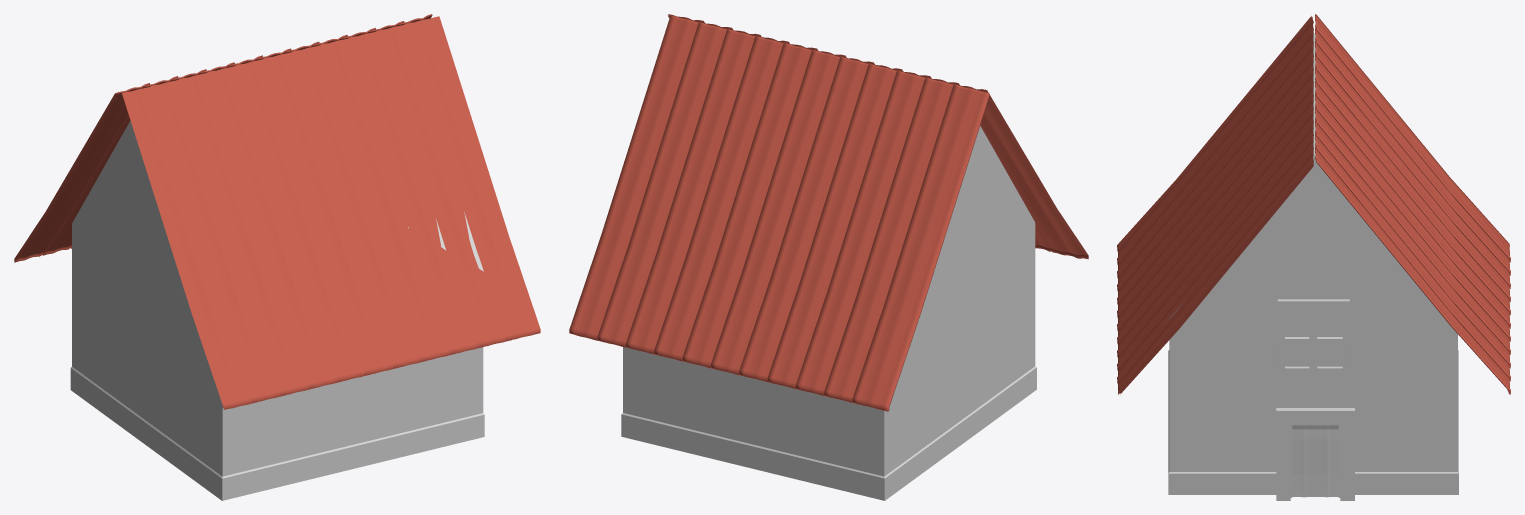
The model's file is TownHouse1.fbx.
3 renders of one model, left to right at view 1: azimuth 30°, elevation 25°; view 2: azimuth 150°, elevation 25°; view 3: azimuth 270°, elevation 25°, orthographic. The views are drawn at different scales.
Visible parts, largest first — view 1: Roof, Cube.003, Cube.001, Cube.002, Roof.001; view 2: Roof.001, Cube.003, Cube.001, Cube.002, Roof; view 3: Roof, Roof.001, Cube.001, Cube.002, Cube.003, Grid.005, Grid, Cube.039, Cube.040, Cube.041.
Boxes of the visible parts, box(x1,y1,x2,y2) form: Roof: box(122, 16, 540, 409); Cube.003: box(70, 324, 484, 500); Cube.001: box(72, 223, 483, 434); Cube.002: box(72, 120, 483, 309); Roof.001: box(14, 14, 432, 262); Roof.001: box(569, 15, 989, 411); Cube.003: box(621, 324, 1036, 500); Cube.001: box(623, 223, 1035, 434); Cube.002: box(924, 126, 1034, 303); Roof: box(667, 14, 1088, 259); Roof: box(1117, 16, 1313, 394); Roof.001: box(1315, 14, 1510, 394); Cube.001: box(1169, 334, 1457, 432); Cube.002: box(1165, 33, 1457, 334); Cube.003: box(1168, 350, 1458, 494); Grid.005: box(1290, 424, 1340, 497); Grid: box(1276, 299, 1350, 374); Cube.039: box(1340, 408, 1354, 500); Cube.040: box(1276, 408, 1290, 500); Cube.041: box(1283, 408, 1347, 423).
Size of the model in its own units: 2475 by 2664 by 2729.
